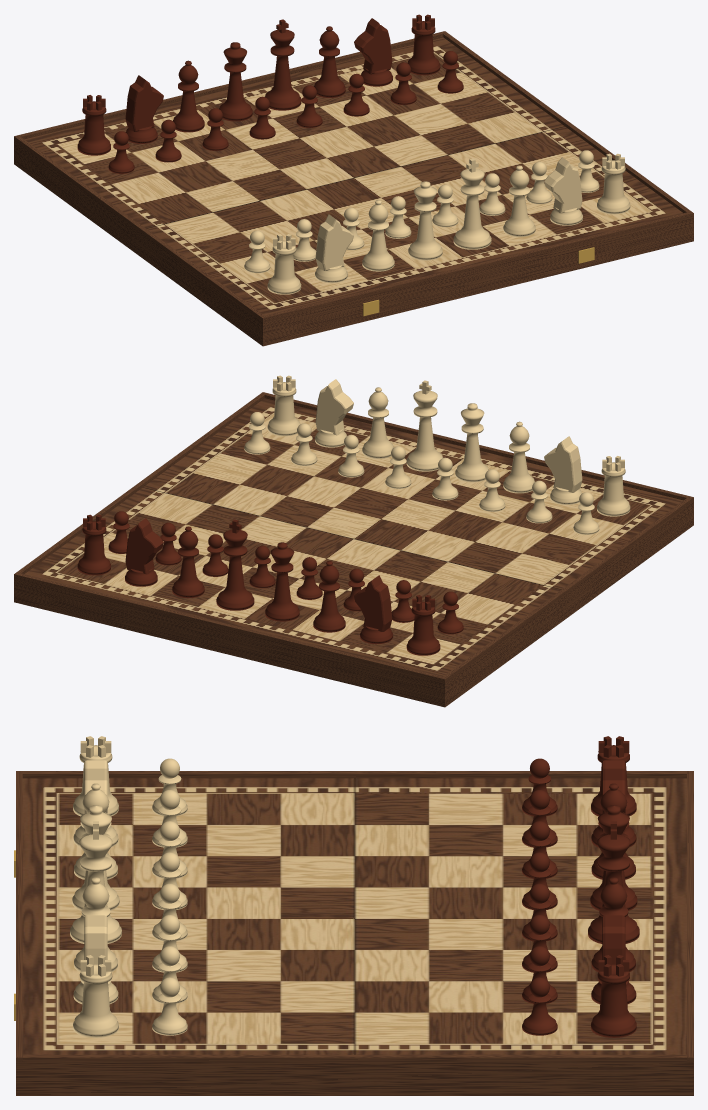
The model's file is philidor-3d-noyer-pliable-44-v2.glb.
3 views of the same model, one above another, from view 1: azimuth 30°, elevation 25°; view 2: azimuth 150°, elevation 25°; view 3: azimuth 270°, elevation 25° (orthographic). The views are drawn at different scales.
Visible parts, largest first — view 1: noyer-pliable-44; view 2: noyer-pliable-44; view 3: noyer-pliable-44.
Boxes of the visible parts, box(x1,y1,x2,y2) form: noyer-pliable-44: box(14, 14, 693, 346); noyer-pliable-44: box(14, 375, 693, 707); noyer-pliable-44: box(14, 736, 693, 1095).
Size of what is drawn, in the model's own units: 0.44 by 0.1042 by 0.4412.
Materials: 5 (2 with a texture image).
